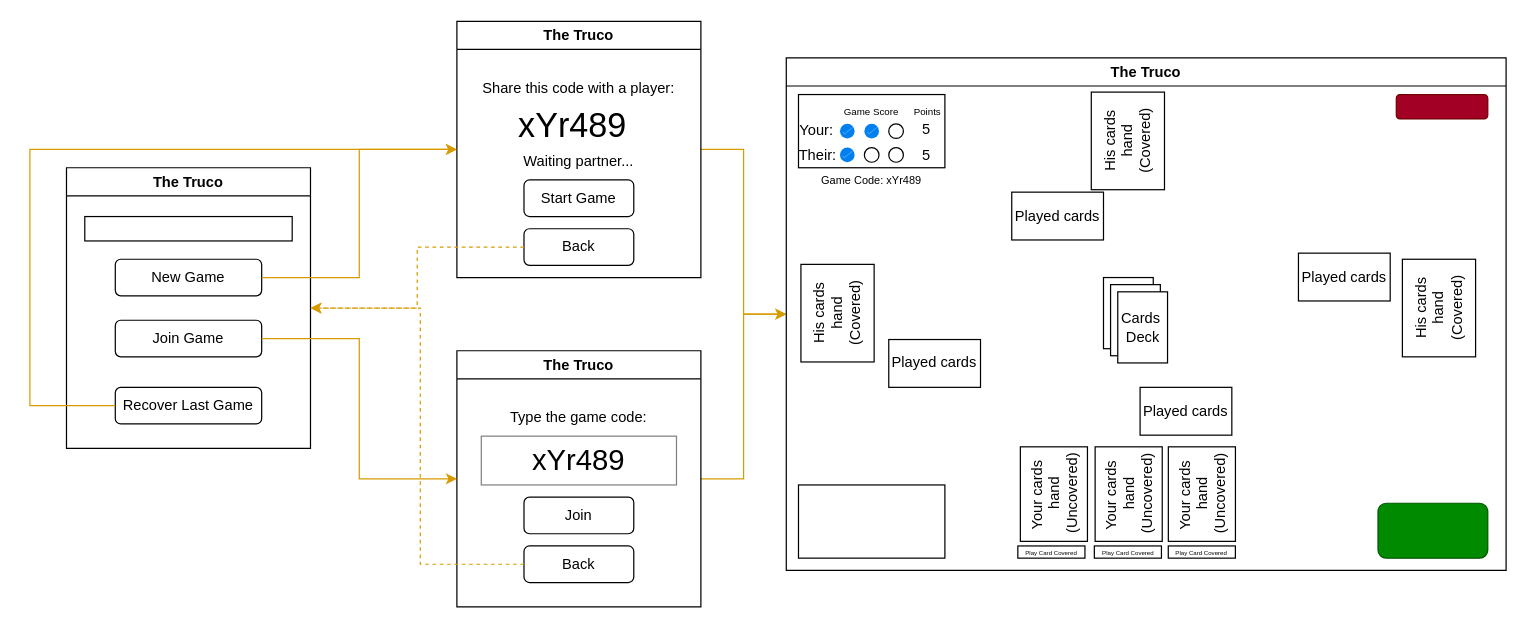
This 1527x628 diagram has some shape labels left out. Each missing label, with the box of its shape:
Console Output Messages: (797, 484, 945, 558)
Leave Game: (1395, 93, 1488, 119)
Truco: (1377, 502, 1488, 558)
type an nickname: (84, 215, 292, 241)
